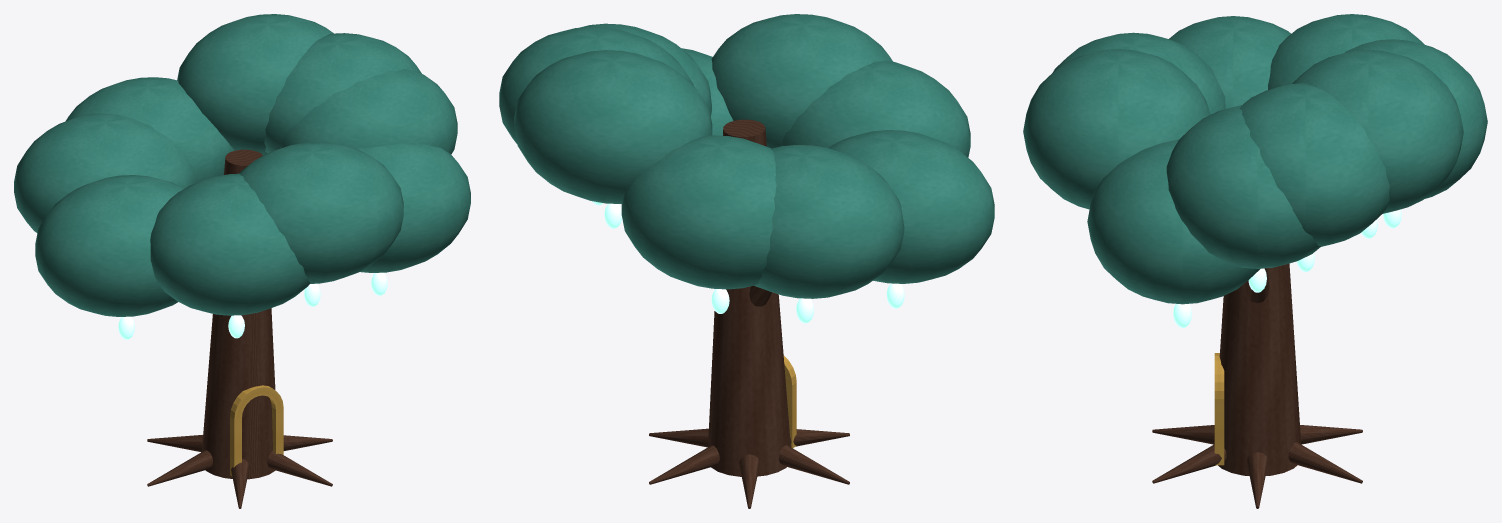
File: wishing_tree.glb
The picture shows the model from 3 angles, left to right: view 1: azimuth 30°, elevation 25°; view 2: azimuth 150°, elevation 25°; view 3: azimuth 270°, elevation 25°; orthographic projection. The views are drawn at different scales.
Parts seen in each view (by area): view 1: wishing_tree; view 2: wishing_tree; view 3: wishing_tree.
Part boxes in pixels (x1=…): wishing_tree: x1=14, y1=14, x2=470, y2=508; wishing_tree: x1=499, y1=14, x2=994, y2=508; wishing_tree: x1=1023, y1=14, x2=1487, y2=508.
Bounding box in the file's own units: 8.56 × 7.6 × 7.32.
4 materials, 4 textured.
